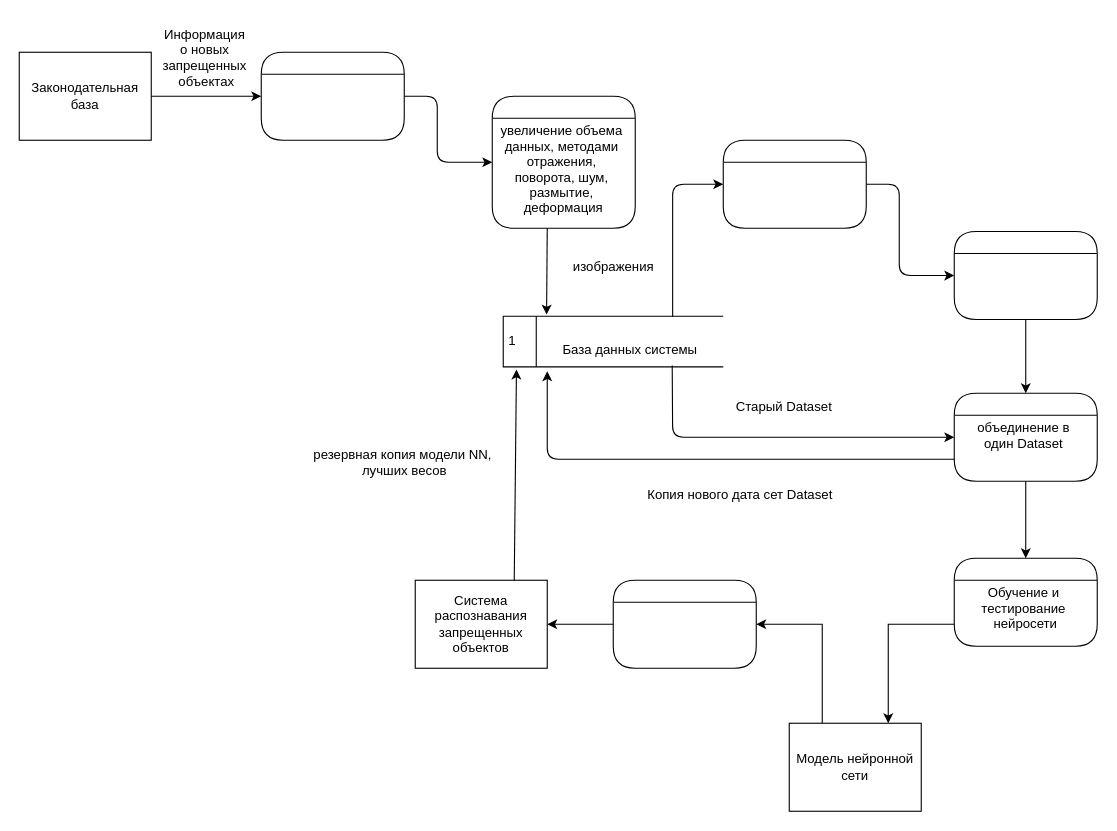
The diagram is 1117 pixels wide and 831 high, and some of its shapes have lost their labels. Each missing label, with the box of its shape:
Внедрение обученной NN: (612, 579, 756, 668)
разметка новых данных: (953, 230, 1097, 320)
Сбор информации, изображения новых запрещенных объектов: (260, 51, 404, 140)
Создание dataSet разделение на train, validation, test: (722, 139, 866, 228)
